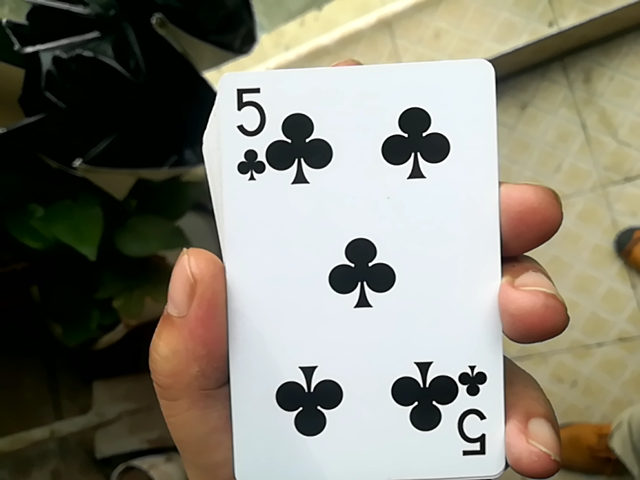mh 5: (188, 68, 514, 474)
